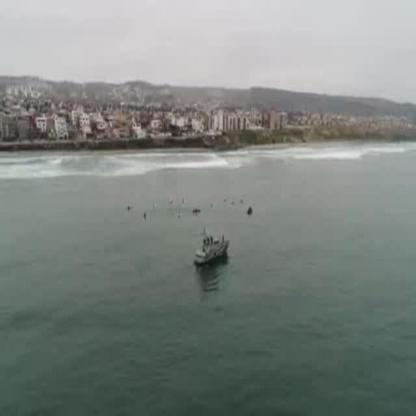Boat: (192, 234, 230, 270)
